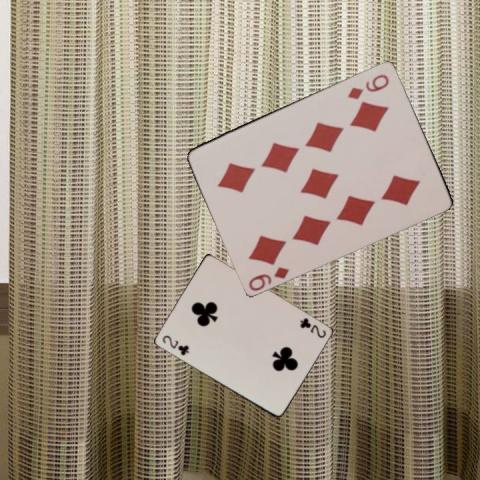2c: (159, 332, 190, 357), (297, 315, 327, 339)
9d: (344, 70, 390, 100), (245, 263, 292, 292)
